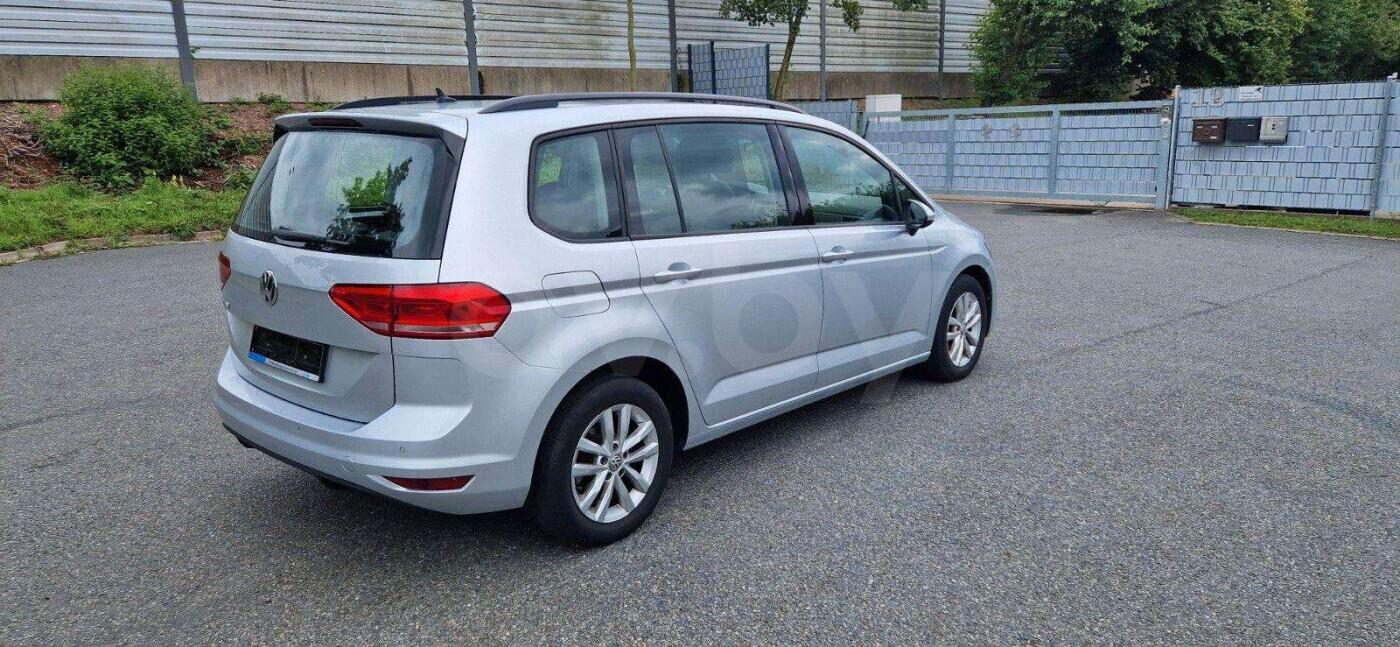Touran_2015: (198, 94, 1000, 546)
